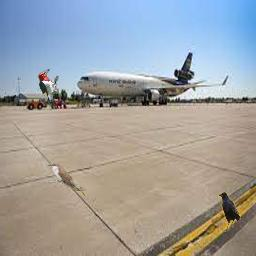Crow: (219, 192, 241, 232)
Cuckoo: (47, 163, 87, 196)
Woodpecker: (38, 69, 59, 109)
